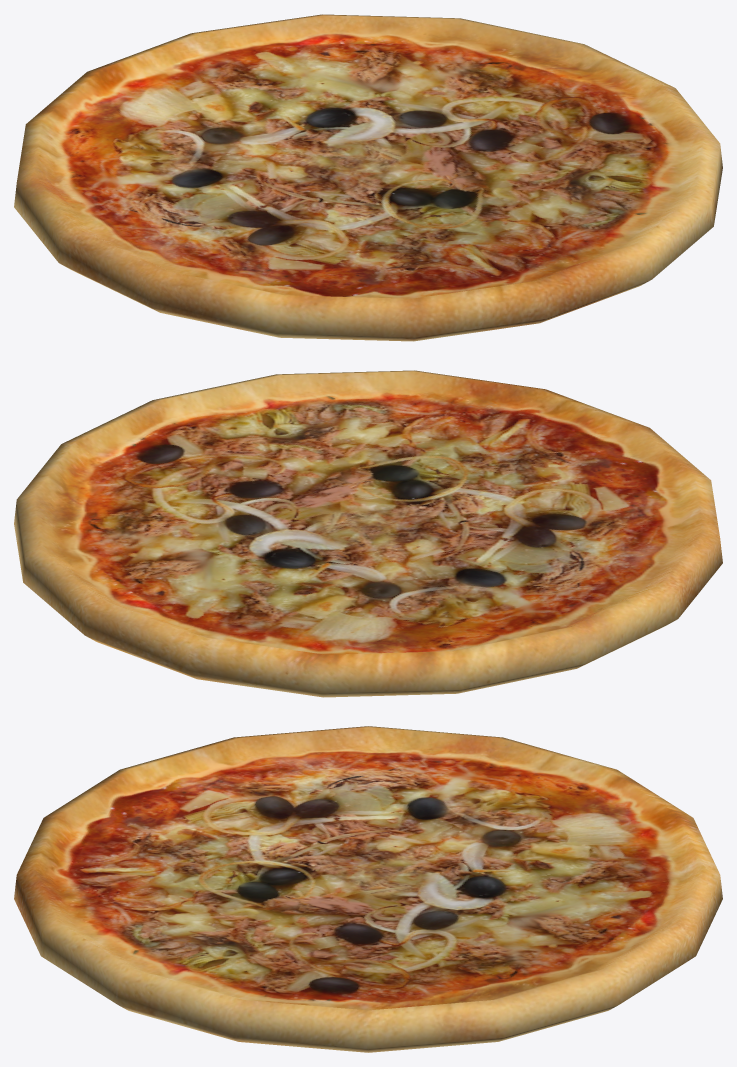
File: FFHP_MOD_Pizza_02.fbx
3 views of the same model, one above another, from view 1: azimuth 30°, elevation 25°; view 2: azimuth 150°, elevation 25°; view 3: azimuth 270°, elevation 25° (orthographic).
Parts seen in each view (by area): view 1: FFHP_MOD_Pizza_02; view 2: FFHP_MOD_Pizza_02; view 3: FFHP_MOD_Pizza_02.
Boxes of the visible parts, bbox=[...] form: FFHP_MOD_Pizza_02: bbox=[14, 14, 722, 341]; FFHP_MOD_Pizza_02: bbox=[14, 370, 722, 697]; FFHP_MOD_Pizza_02: bbox=[14, 726, 722, 1052].
Size of the model in its own units: 0.4303 by 0.0271 by 0.4303.
